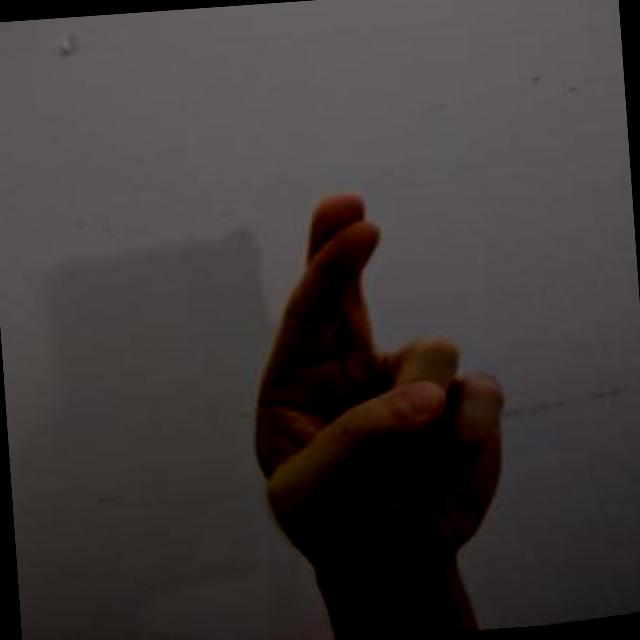R: (202, 164, 538, 600)
